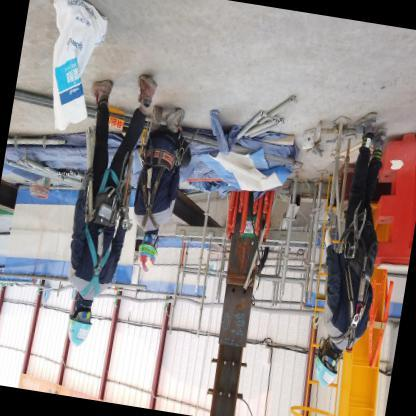Helmet: (130, 237, 166, 280), (64, 313, 102, 351), (309, 350, 342, 391)
safety-shoe: (129, 62, 167, 112), (84, 73, 120, 112), (349, 103, 382, 145), (161, 100, 193, 139)
